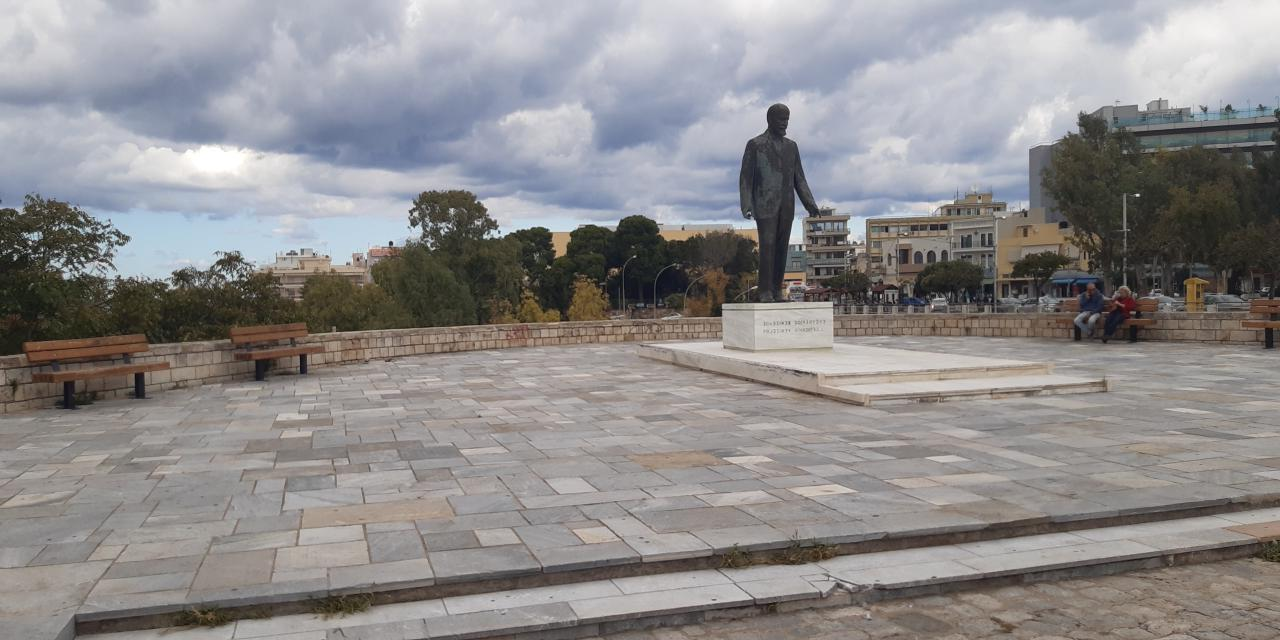Venizelos: (741, 102, 821, 310)
